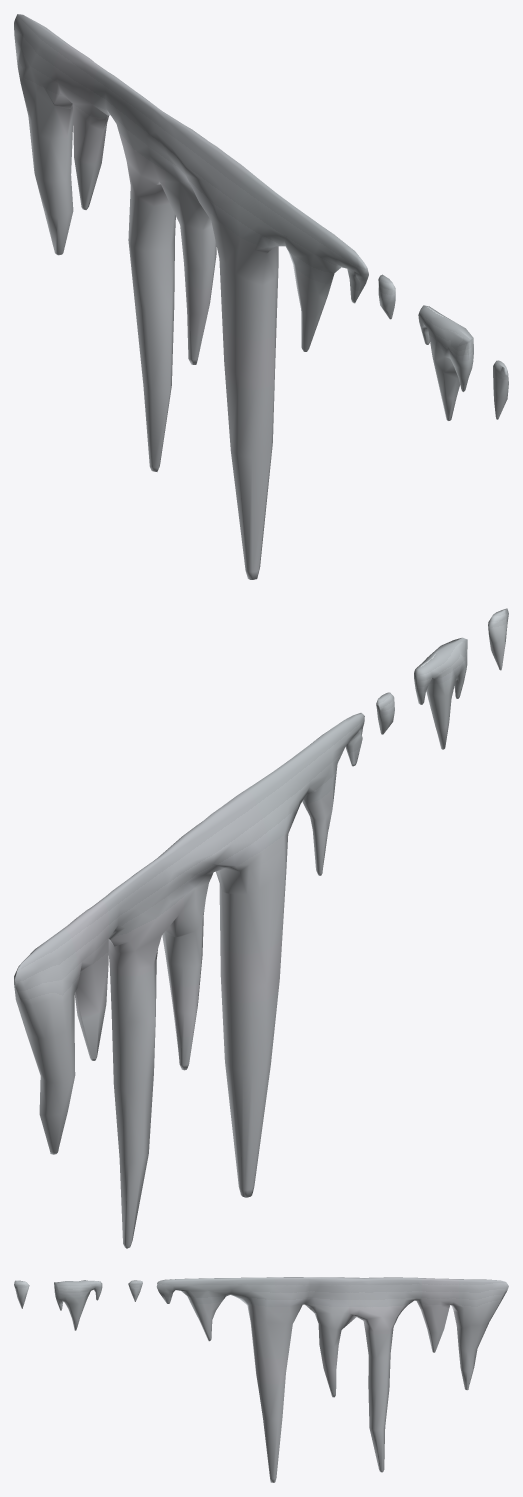
The picture shows the model from 3 angles, top to bottom: view 1: azimuth 30°, elevation 25°; view 2: azimuth 150°, elevation 25°; view 3: azimuth 270°, elevation 25°; orthographic projection. The views are drawn at different scales.
Visible parts, largest first — view 1: body0_model0_lod0_mesh0; view 2: body0_model0_lod0_mesh0; view 3: body0_model0_lod0_mesh0.
Boxes of the visible parts, x1,y1,x2,y2 form: body0_model0_lod0_mesh0: (14, 14, 508, 579); body0_model0_lod0_mesh0: (14, 608, 508, 1248); body0_model0_lod0_mesh0: (14, 1277, 508, 1482).
Bounding box in the file's own units: 4.96 × 36.32 × 79.69.
1 material, 1 textured.
